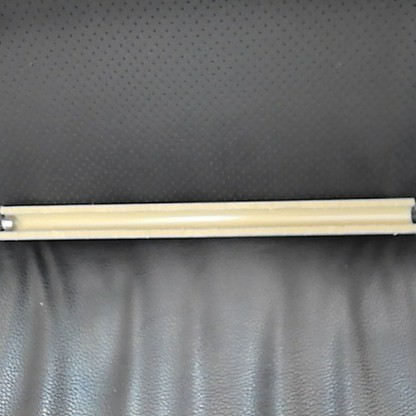ironball: (0, 211, 15, 232)
